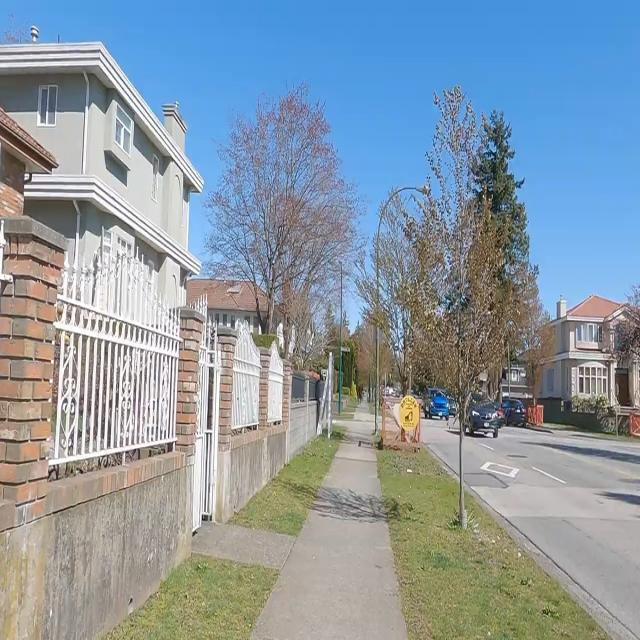Automobile: (467, 404, 499, 436), (502, 398, 526, 426), (429, 392, 447, 419)
Obstacle: (378, 449, 608, 639), (0, 452, 191, 639), (51, 234, 179, 469), (212, 350, 314, 521), (103, 554, 278, 639), (232, 435, 342, 535), (193, 317, 218, 528), (231, 323, 259, 426), (268, 342, 283, 422), (321, 352, 331, 437), (458, 413, 465, 528), (376, 326, 382, 433)
Road: (464, 428, 639, 639), (424, 420, 457, 472)
Sidewalk: (249, 403, 402, 639), (194, 523, 300, 570)
